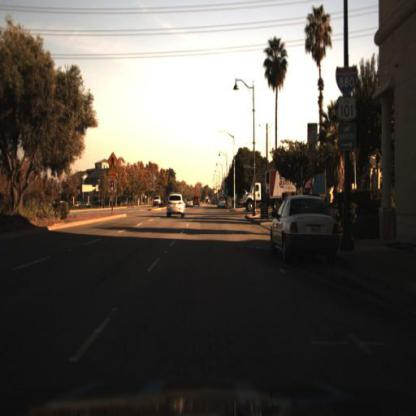car: (267, 191, 353, 268), (163, 190, 192, 222), (215, 194, 231, 212), (151, 195, 165, 209), (192, 195, 202, 211)
truck: (243, 165, 326, 215), (242, 164, 282, 218)
